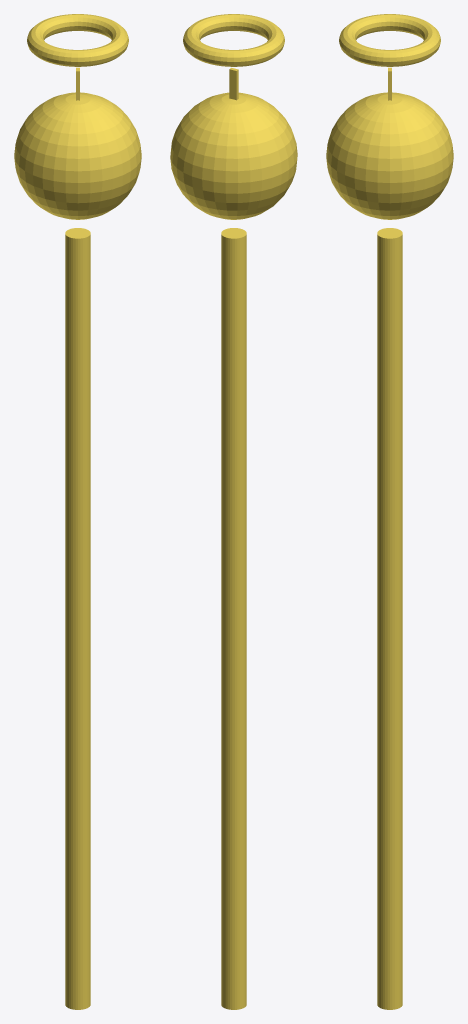
File: staff.glb
3 views of the same model, side by side, from view 1: azimuth 90°, elevation 25°; view 2: azimuth 150°, elevation 25°; view 3: azimuth 270°, elevation 25° (orthographic).
Parts seen in each view (by area): view 1: Ceremonial_Staff; view 2: Ceremonial_Staff; view 3: Ceremonial_Staff.
Part boxes in pixels (x1,y1,x2,y2): Ceremonial_Staff: (14,14,141,1009); Ceremonial_Staff: (170,14,297,1009); Ceremonial_Staff: (326,14,453,1009).
Size of the model in its own units: 0.3 by 2.52 by 0.3.
